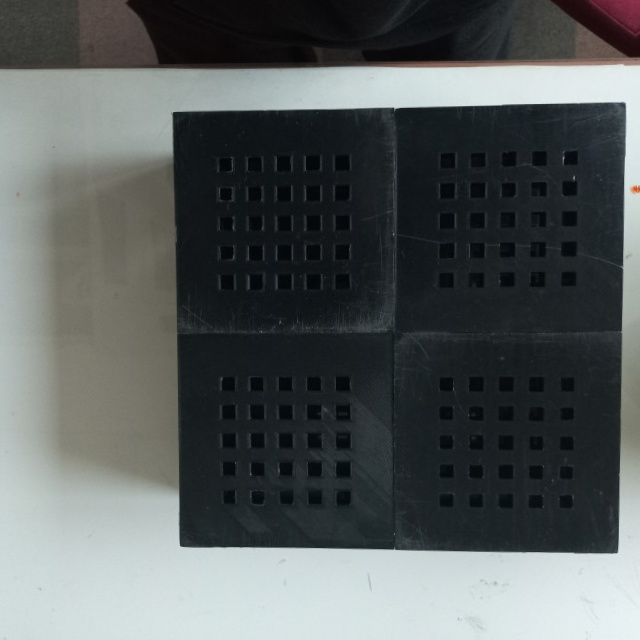pallet: (162, 97, 630, 559)
